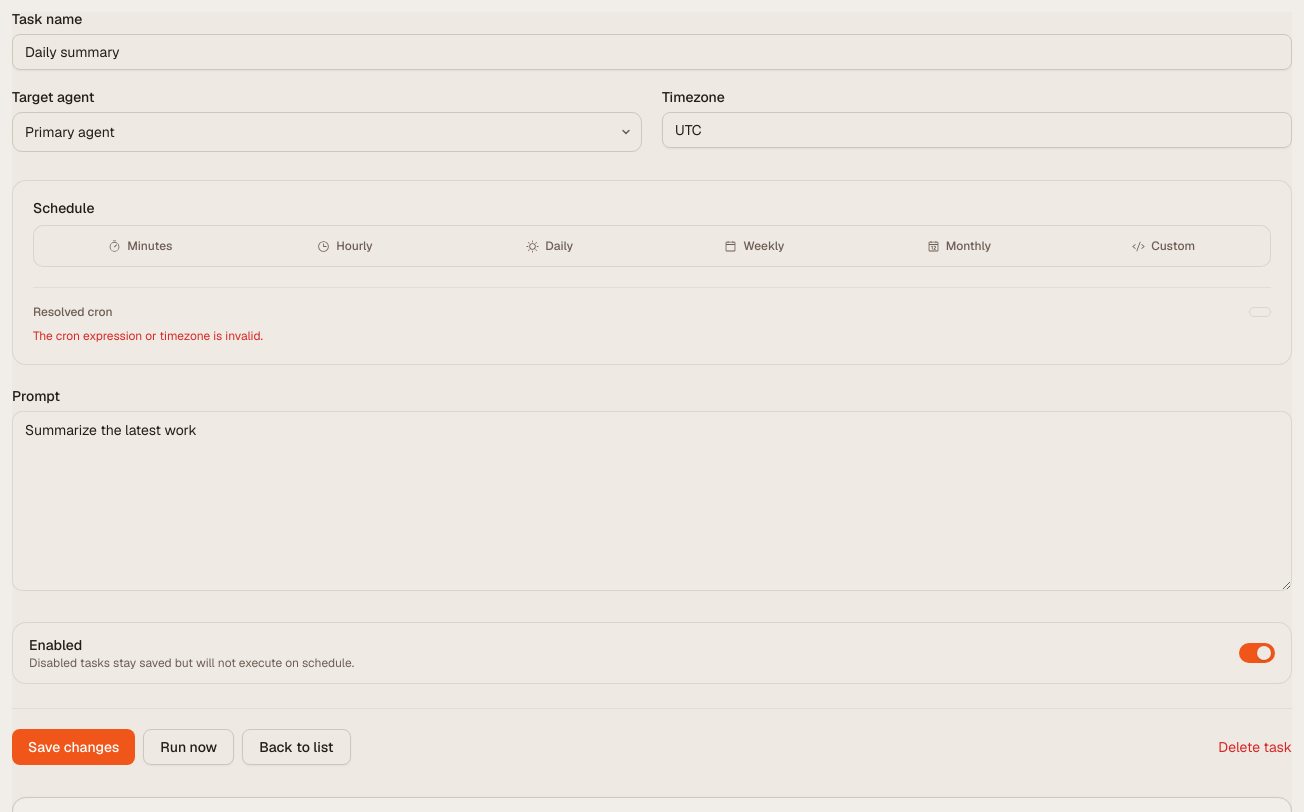
Test: AutopilotTaskForm › saves edits with PATCH and reloads the task
Check: the field showing "Daily summary" is shown, box top-left (12, 34), bottom-right (1292, 70)
Click the button "Save changes": (74, 747) top-left (12, 729), bottom-right (135, 765)
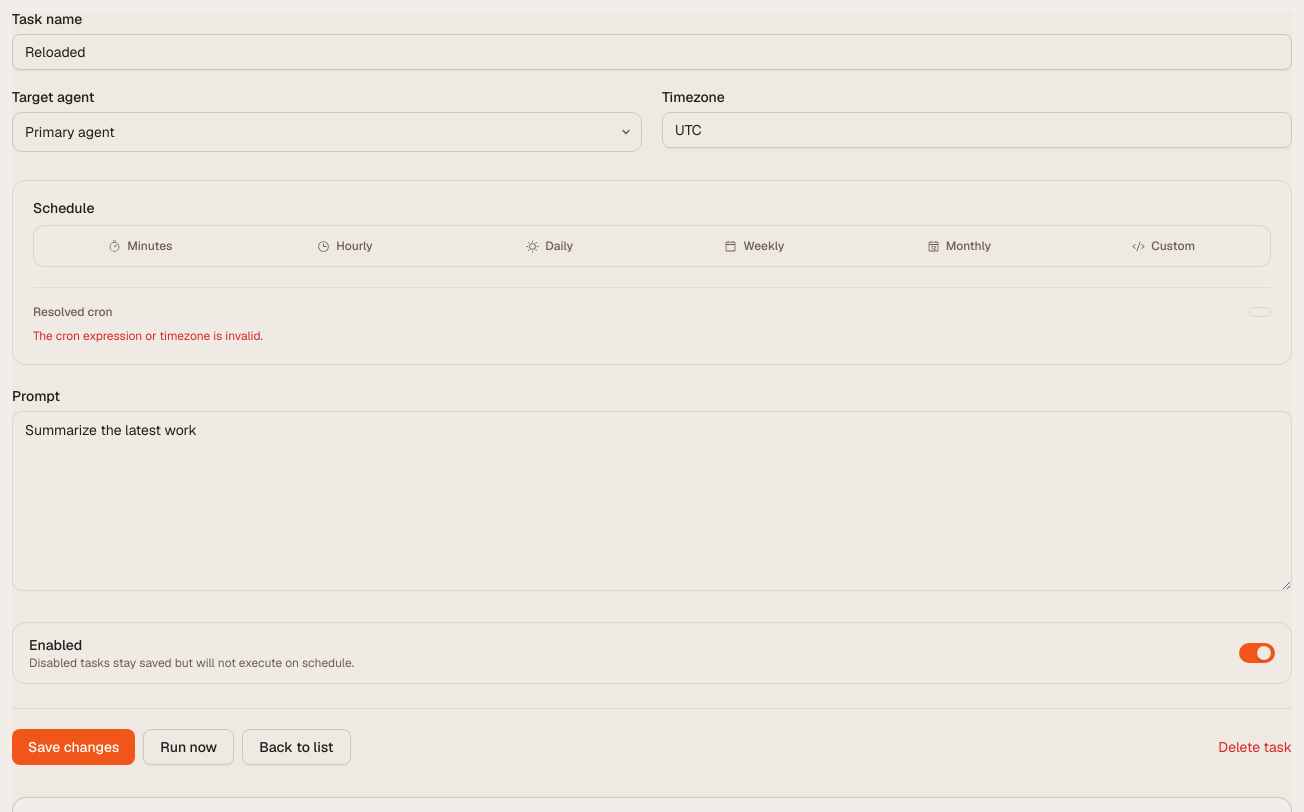
Check: the field showing "Reloaded" is shown, box top-left (12, 34), bottom-right (1292, 70)
